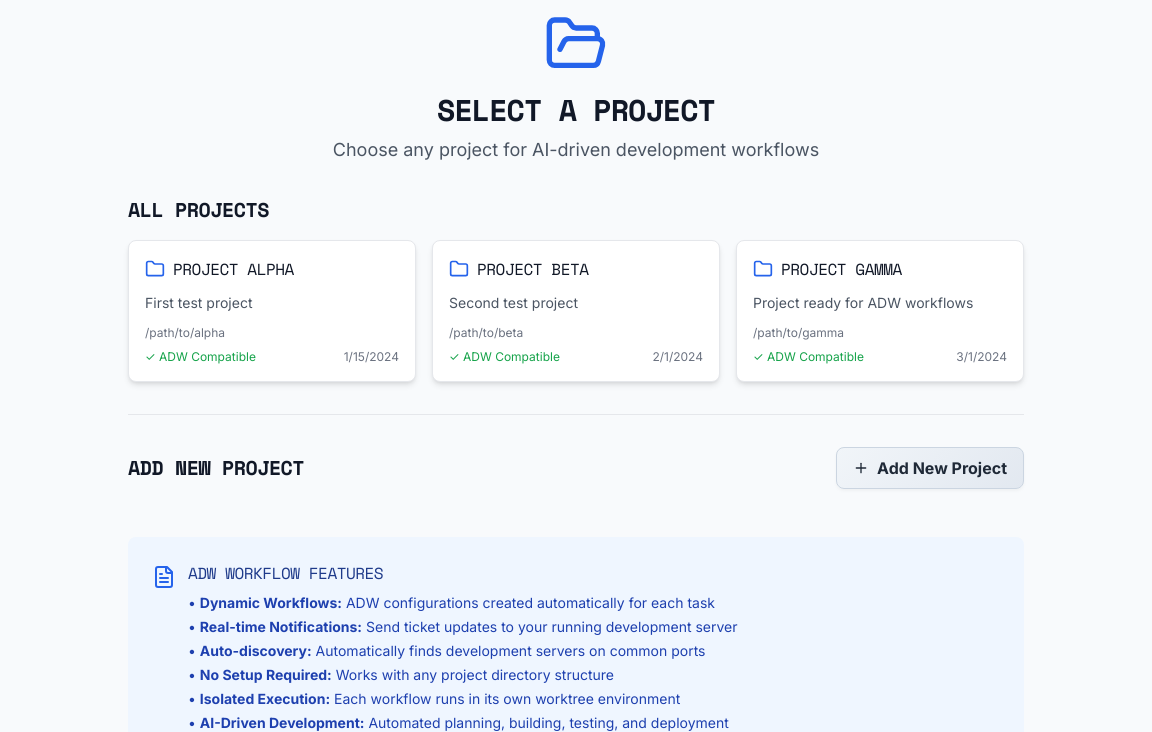
Scenario: ProjectSelector Component › Add New Project › should show new project form when Add New Project is clicked
Click the button "Add New Project" at (930, 468), box top-left (836, 447), bottom-right (1024, 489)
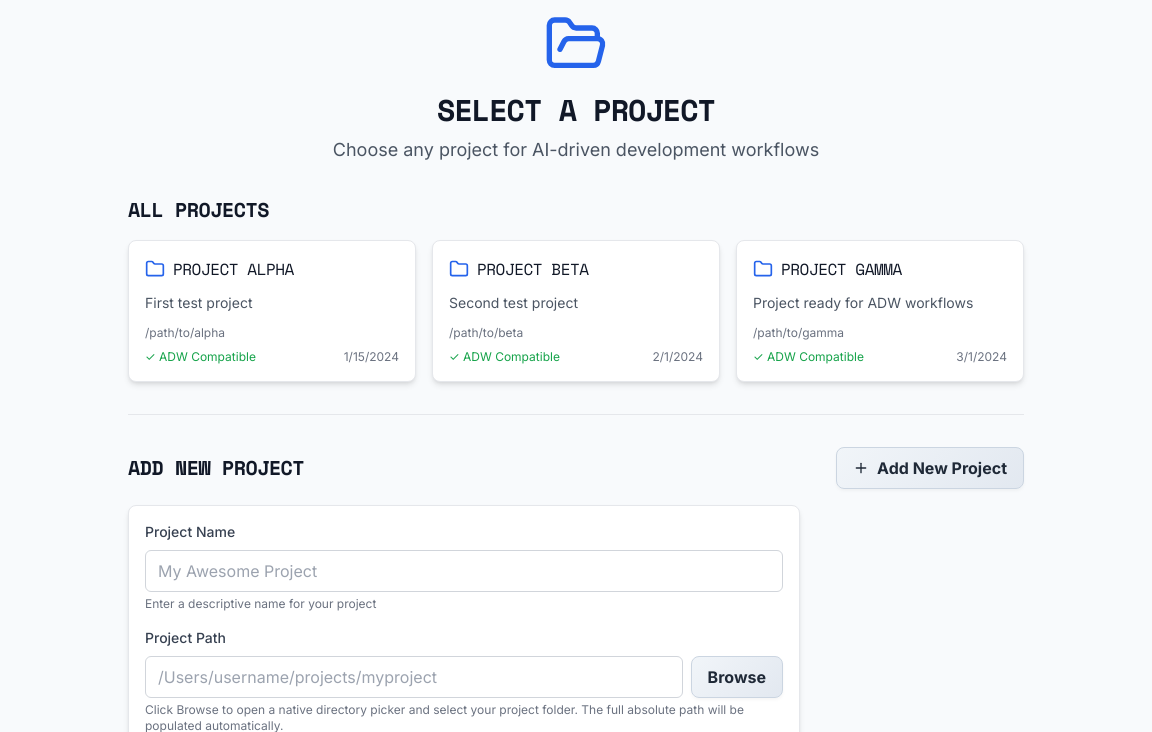
Now the field with placeholder "My Awesome Project" is shown, box top-left (145, 550), bottom-right (783, 592)
Now the field with placeholder "/Users/username/projects/myproject" is shown, box top-left (145, 656), bottom-right (683, 698)
